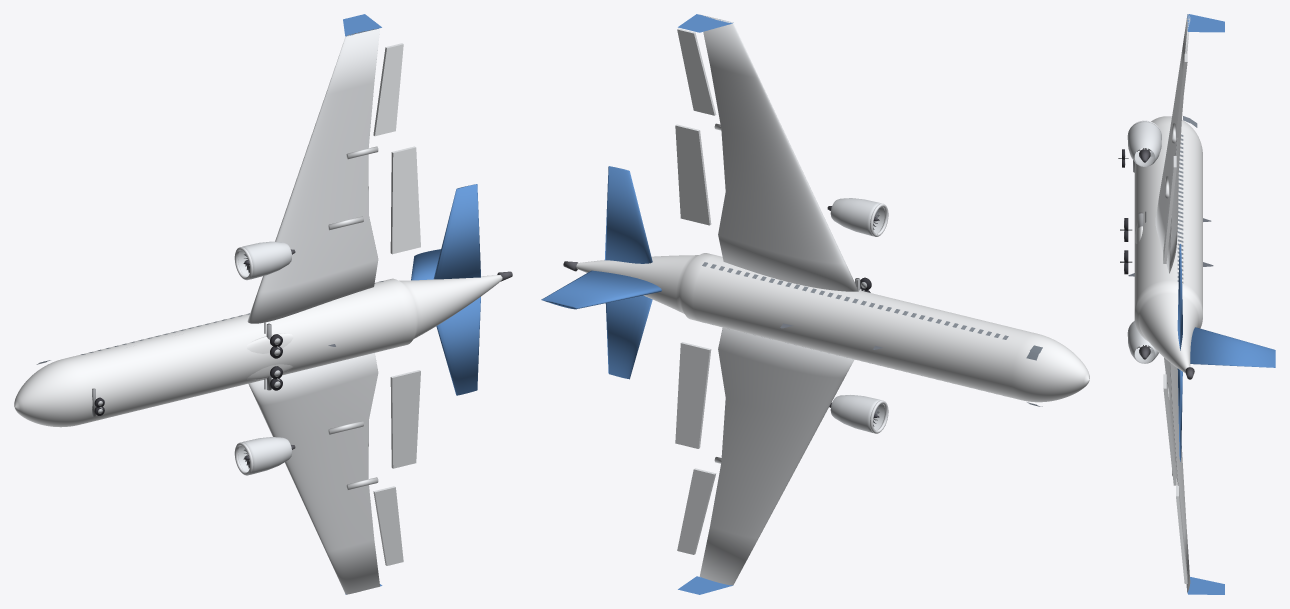
The picture shows the model from 3 angles, left to right: view 1: azimuth 30°, elevation 25°; view 2: azimuth 150°, elevation 25°; view 3: azimuth 270°, elevation 25°; orthographic projection.
Visible parts, largest first — view 1: Fuselage, Wing_R, Wing_L, HStab_R, HStab_L, Flap_R, Flap_L, Aileron_R, Aileron_L, Nacelle_1_0, Nacelle_-1_0, BellyFairing (+1 smaller); view 2: Fuselage, Wing_L, Wing_R, HStab_R, Flap_L, HStab_L, Flap_R, Fin, Aileron_L, Aileron_R, Nacelle_1_0, Nacelle_-1_0 (+1 smaller); view 3: Fuselage, Fin, Wing_R, Wing_L, Nacelle_1_0, Nacelle_-1_0, Sharklet_R, Flap_L, Sharklet_L, Flap_R, HStab_R, Aileron_L (+3 smaller).
Part boxes in pixels (x1,y1,x2,y2): Fuselage: [14, 275, 502, 427]; Wing_R: [247, 28, 379, 323]; Wing_L: [248, 353, 379, 594]; HStab_R: [433, 184, 480, 279]; HStab_L: [436, 297, 480, 395]; Flap_R: [390, 146, 420, 254]; Flap_L: [390, 370, 420, 468]; Aileron_R: [373, 43, 403, 136]; Aileron_L: [373, 486, 403, 565]; Nacelle_1_0: [238, 241, 291, 279]; Nacelle_-1_0: [238, 437, 291, 474]; BellyFairing: [247, 333, 293, 379]; Fuselage: [576, 253, 1089, 402]; Wing_L: [699, 327, 854, 585]; Wing_R: [700, 14, 858, 291]; HStab_R: [604, 166, 652, 263]; Flap_L: [675, 342, 711, 448]; HStab_L: [605, 295, 652, 379]; Flap_R: [675, 124, 711, 225]; Fin: [541, 270, 661, 309]; Aileron_L: [677, 468, 716, 554]; Aileron_R: [677, 28, 716, 115]; Nacelle_1_0: [830, 198, 884, 236]; Nacelle_-1_0: [830, 395, 884, 432]; Fuselage: [1134, 116, 1202, 372]; Fin: [1190, 327, 1275, 367]; Wing_R: [1155, 14, 1190, 273]; Wing_L: [1164, 357, 1190, 592]; Nacelle_1_0: [1127, 121, 1161, 166]; Nacelle_-1_0: [1127, 321, 1158, 363]; Sharklet_R: [1187, 14, 1224, 32]; Flap_L: [1163, 374, 1176, 485]; Sharklet_L: [1187, 577, 1224, 594]; Flap_R: [1163, 156, 1176, 263]; HStab_R: [1177, 244, 1182, 350]; Aileron_L: [1176, 486, 1187, 583].
Size of the model in its own units: 34.14 by 35.8 by 9.07.
